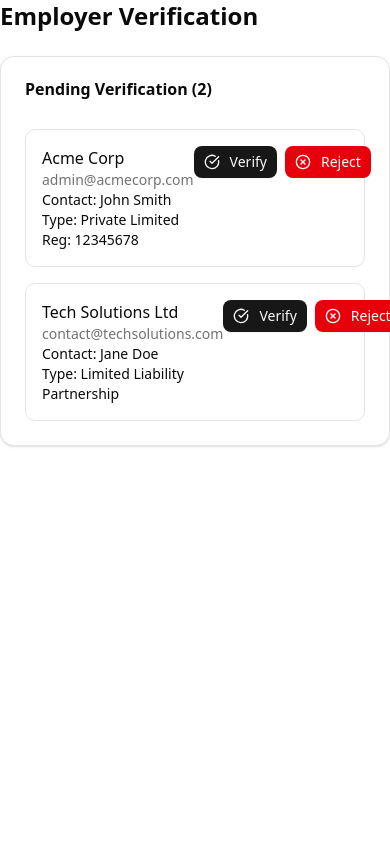
Test: EmployerVerification › closes reject dialog when Cancel is clicked
// Click first Reject button
Click the button "Reject" in the row of "admin@acmecorp.com" at (328, 162), box [285,146,371,178]
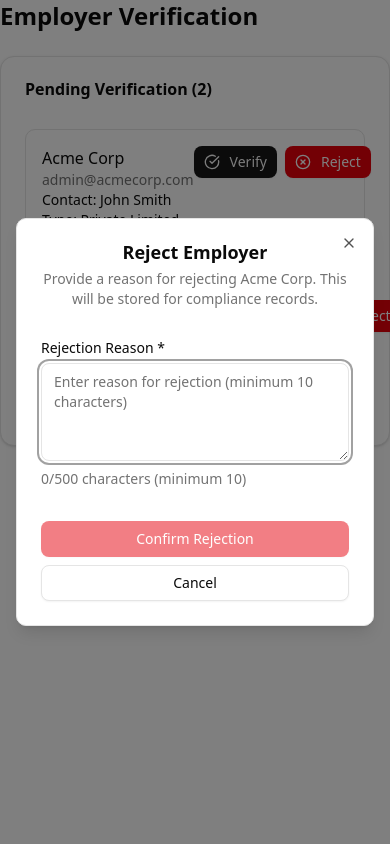
Expected: the dialog is shown, [16,218,374,626]
// Click Cancel
Click the button "Cancel" at (195, 583), box [41,565,349,601]
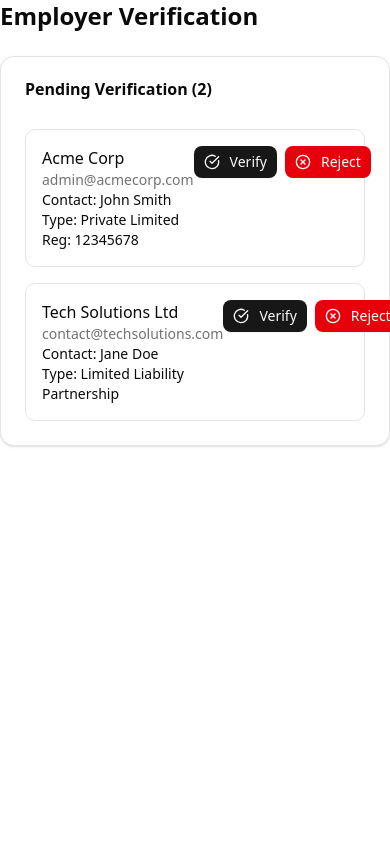
Expected: the dialog is gone
